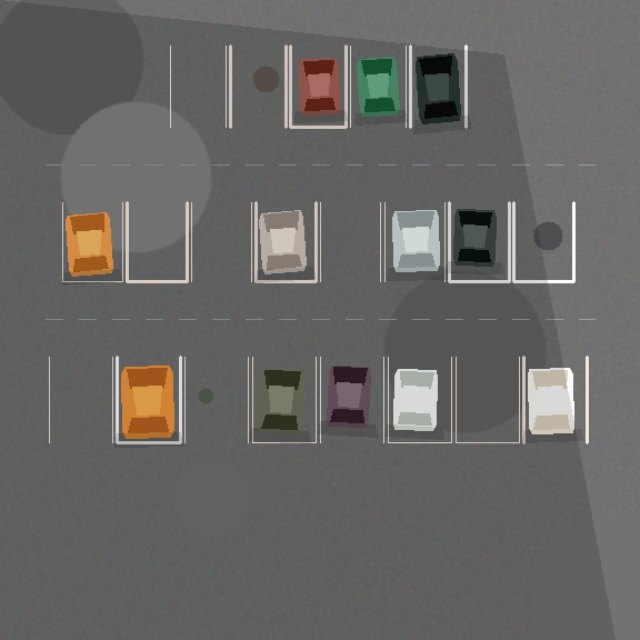space-empty: (184, 357, 248, 442), (49, 357, 112, 442), (456, 357, 519, 442), (127, 202, 187, 281), (191, 202, 251, 281), (320, 202, 380, 281), (513, 202, 573, 281), (170, 46, 226, 127), (230, 46, 286, 127)
space-occupied: (252, 357, 316, 442), (523, 357, 587, 442), (117, 357, 180, 442), (320, 357, 383, 442), (388, 357, 451, 442), (62, 202, 122, 281), (256, 202, 316, 281), (384, 202, 444, 281), (449, 202, 509, 281), (290, 46, 346, 127), (350, 46, 406, 127), (410, 46, 466, 127)
